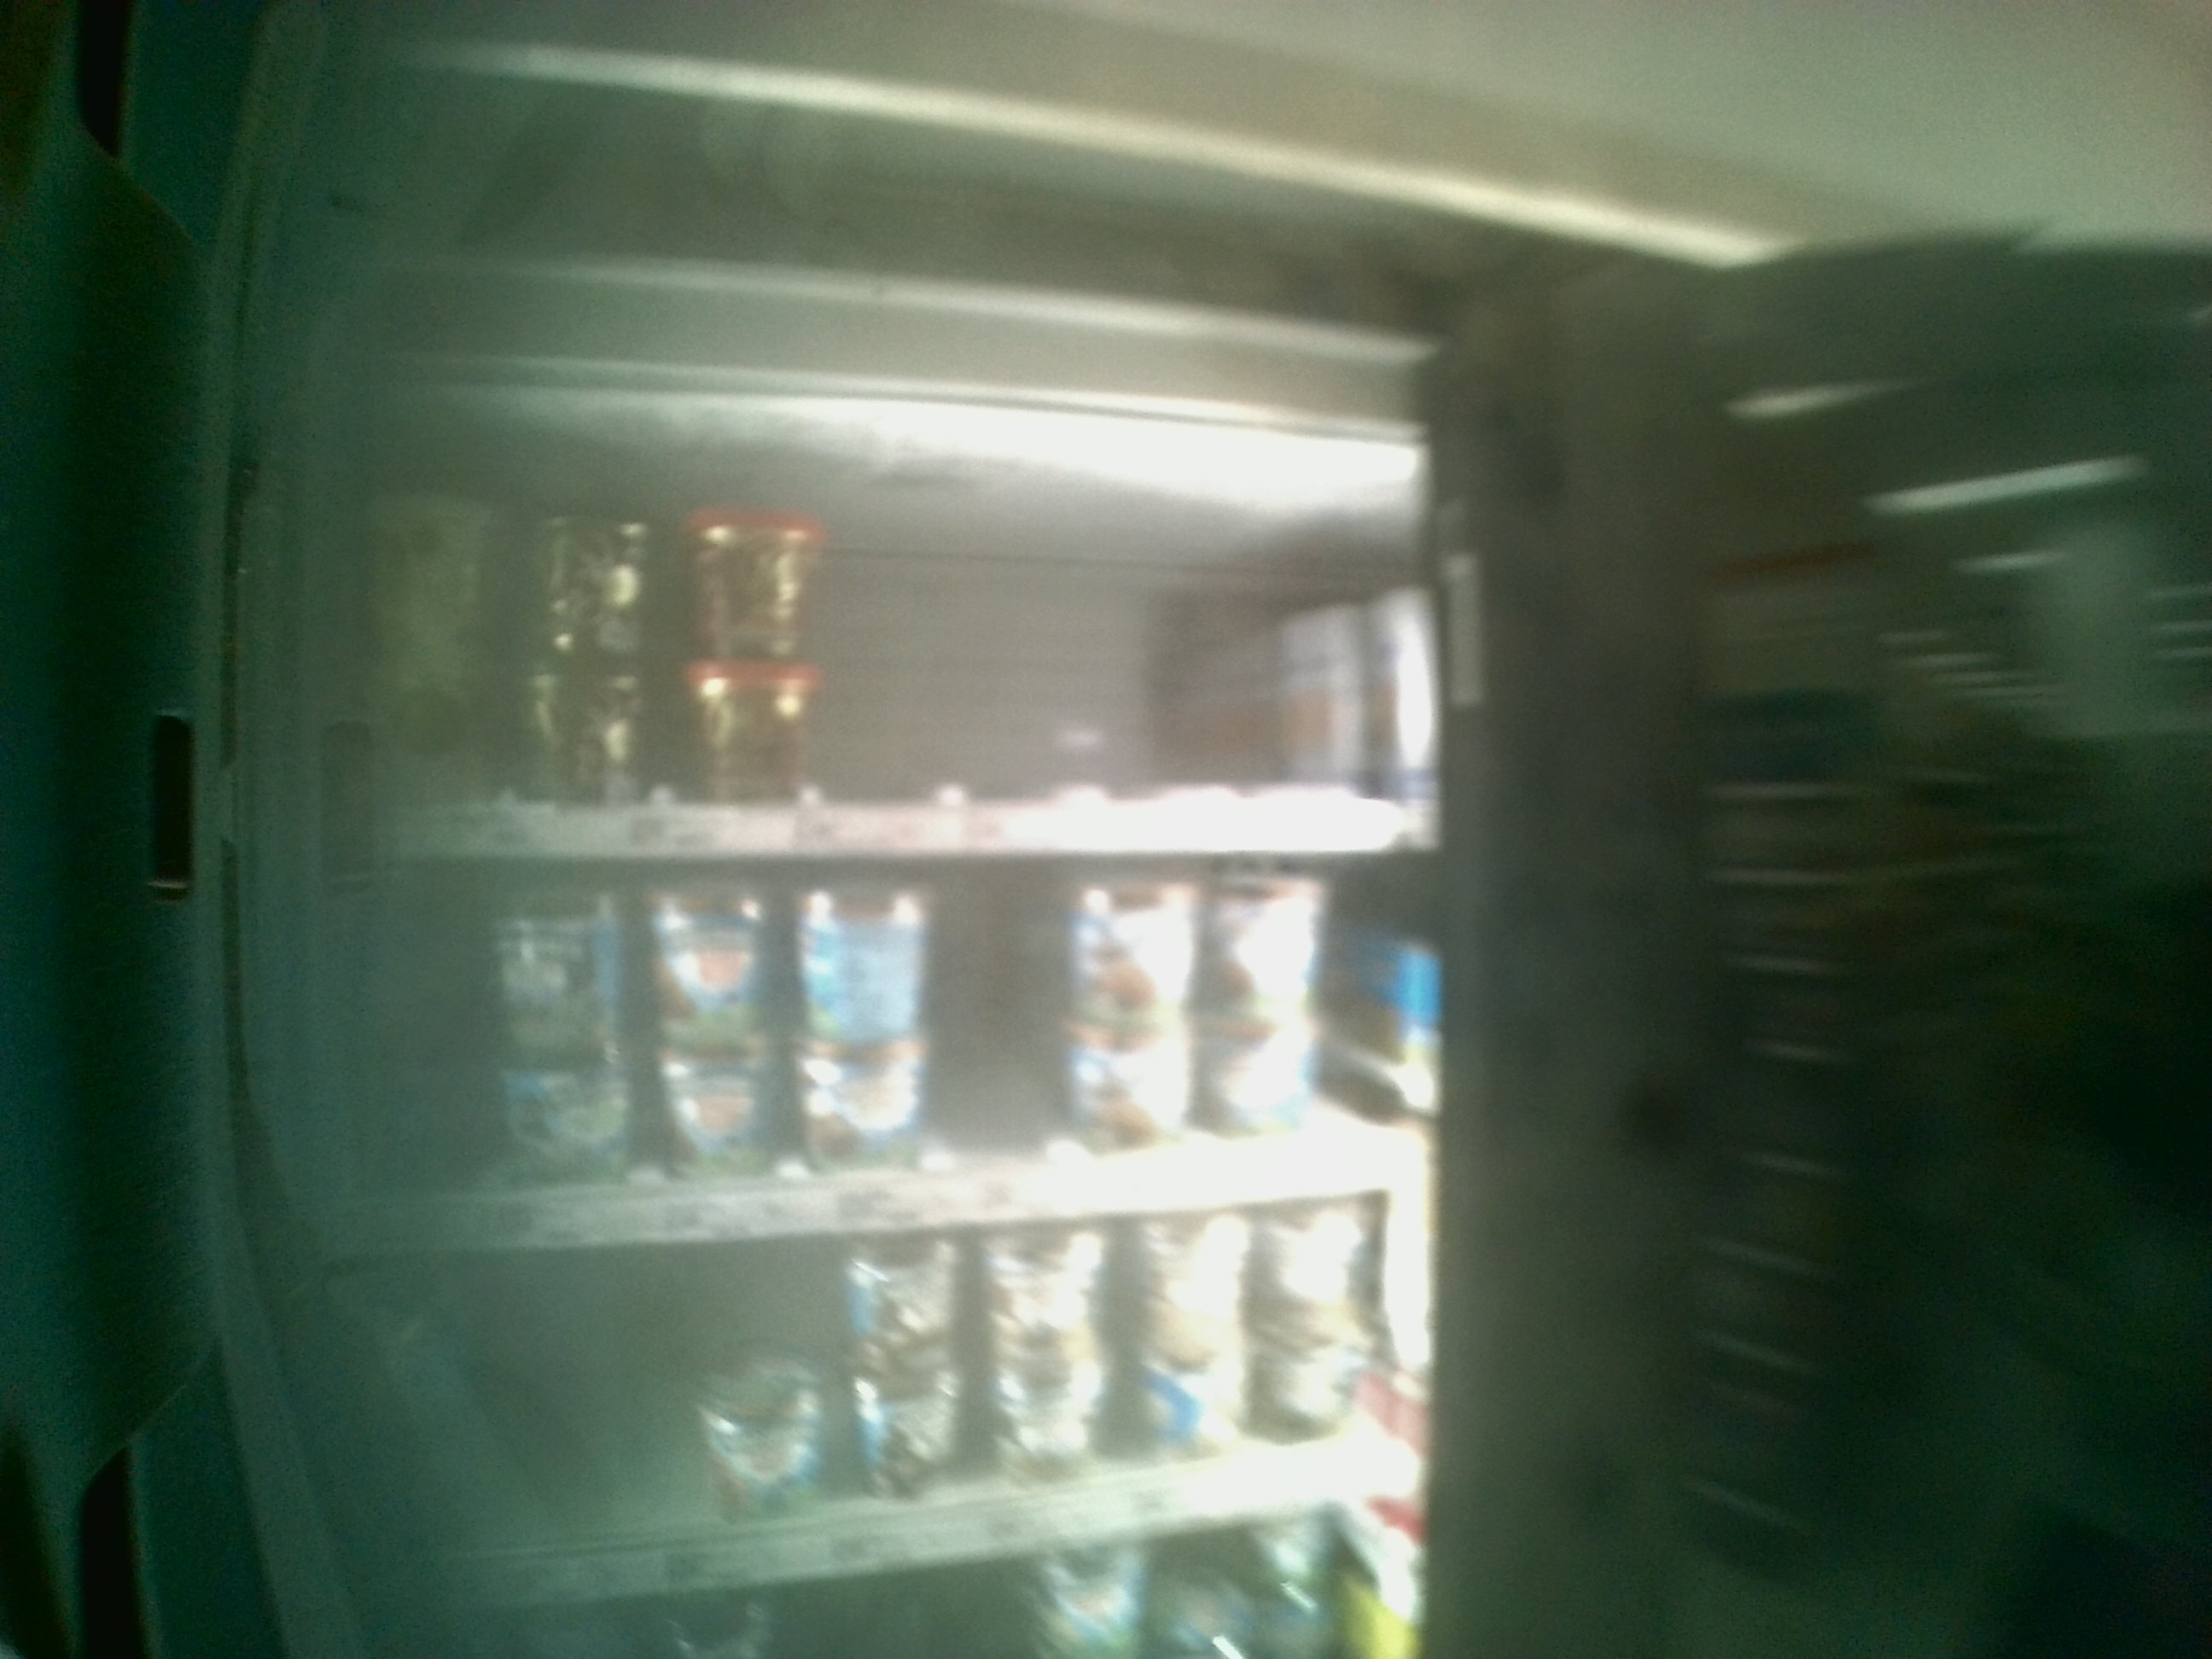shelf: (366, 408, 1453, 849), (364, 847, 1435, 1246)
